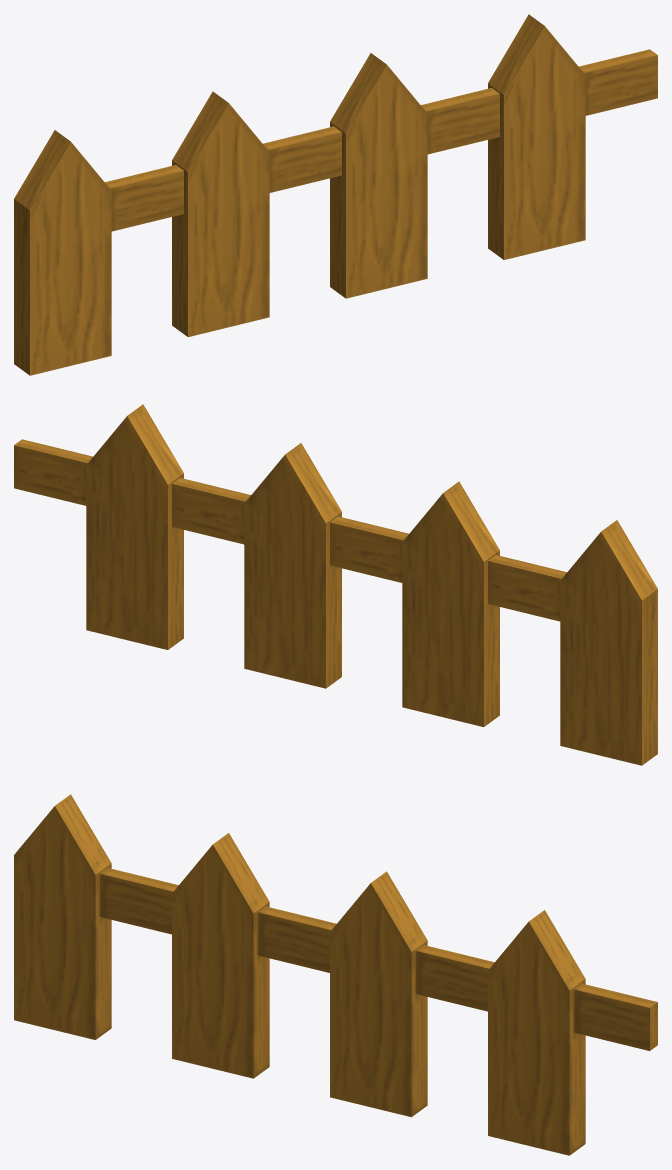
The model's file is Fence-optimized.glb.
3 views of the same model, one above another, from view 1: azimuth 30°, elevation 25°; view 2: azimuth 150°, elevation 25°; view 3: azimuth 330°, elevation 25° (orthographic).
Visible parts, largest first — view 1: Cube.013; view 2: Cube.013; view 3: Cube.013.
Part boxes in pixels (<box>): Cube.013: <box>14,14,657,375</box>; Cube.013: <box>14,404,657,765</box>; Cube.013: <box>14,794,657,1155</box>.
Bounding box in the file's own units: 1.55 × 0.5274 × 0.0683.
1 material, 1 textured.
